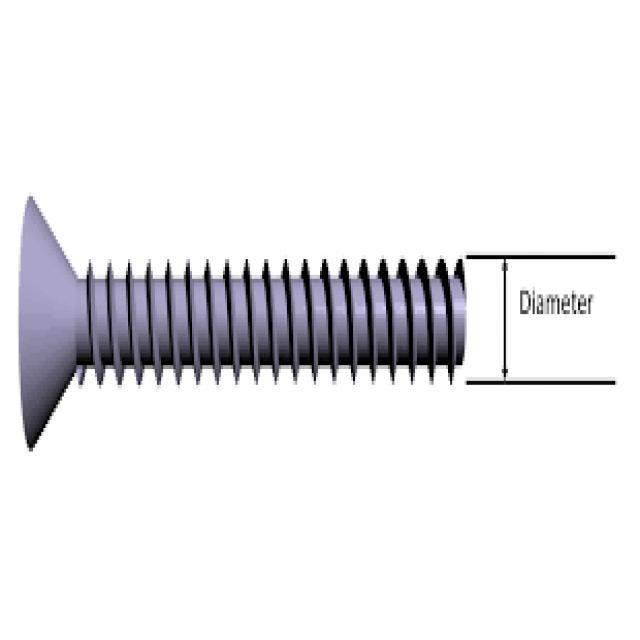Screw: (19, 196, 467, 452)
